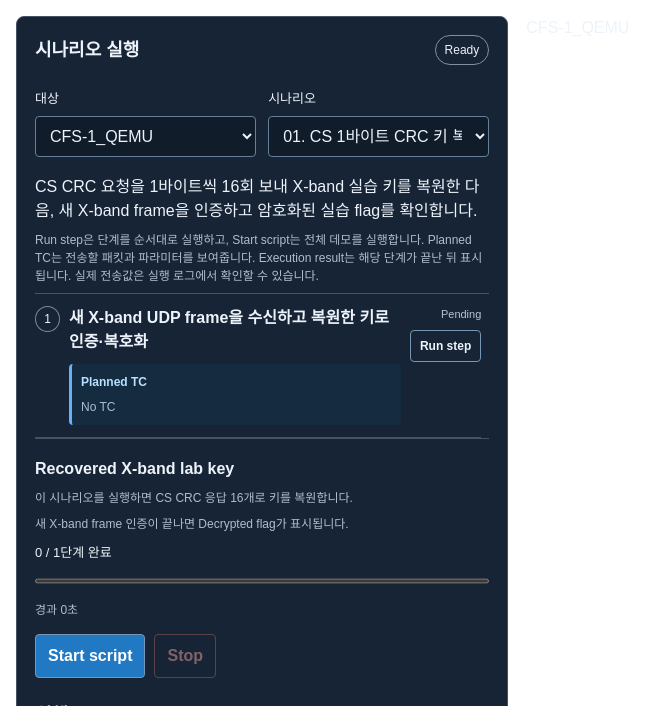
Test: shows a completed CRC result only after the current script executes
The image size is (645, 706).
Click the button with test id "start" at (90, 656), box [35,634,146,678]
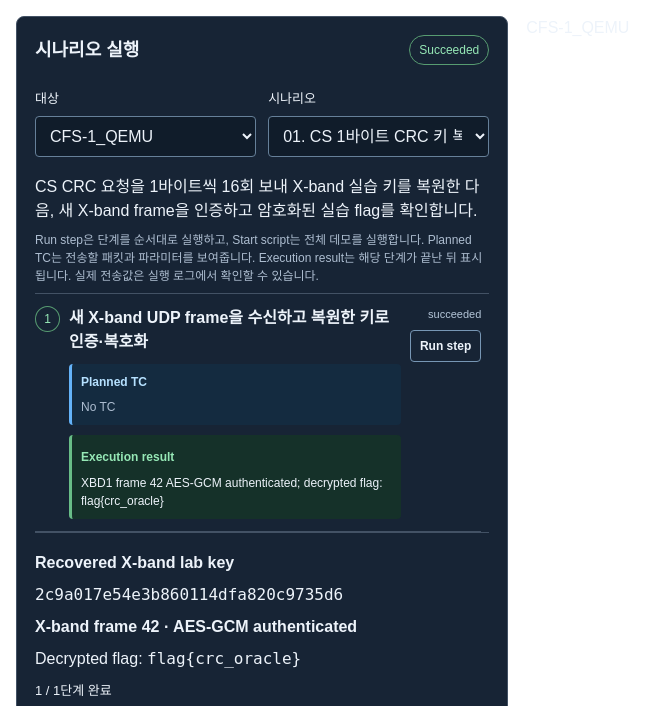
Expected: the element with test id "recovered-key" reads "2c9a017e54e3b860114dfa820c9735d6", [35,584,343,604]
Expected: the element with test id "decrypted-flag" shows "flag{crc_oracle}", [147,648,301,668]
Expected: the element with test id "decrypted-flag" shows "frame 42 · AES-GCM authenticated", [35,618,357,634]
